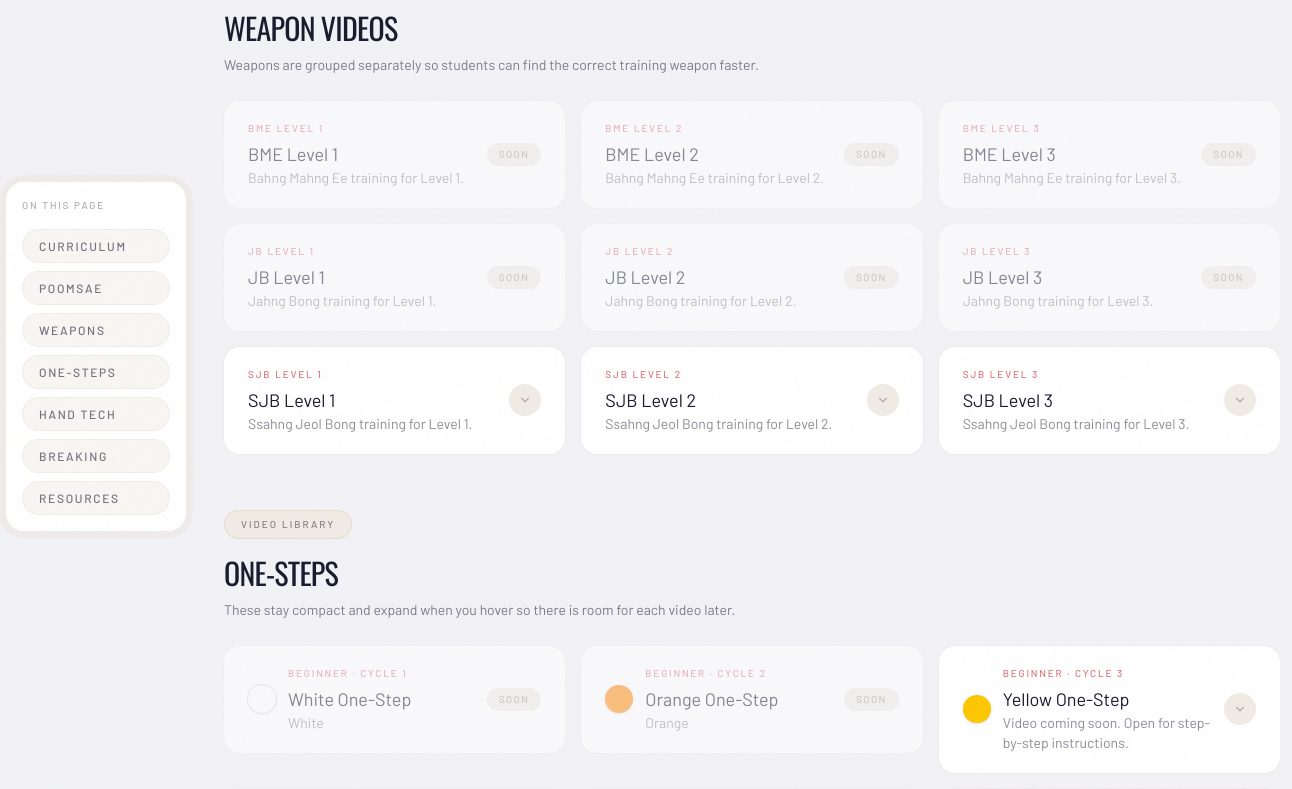
Test: ColorBeltPage › renders the SJB Level 3 weapon video when expanded
(page scrolled)
Click the button "SJB Level 3" at {"x": 1001, "y": 374}, box [939,347,1280,454]
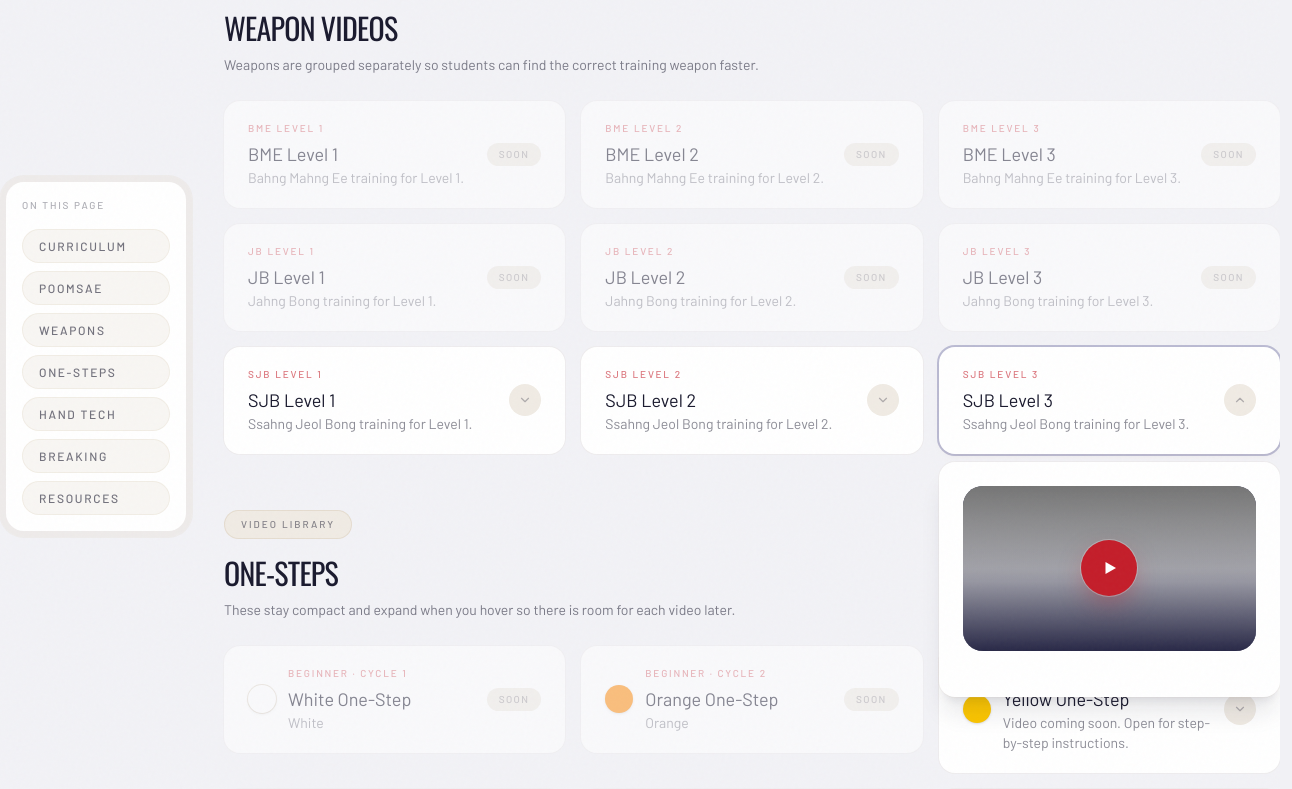
Expected: the button named "play sjb level 3" is shown, [963,486,1256,651]
